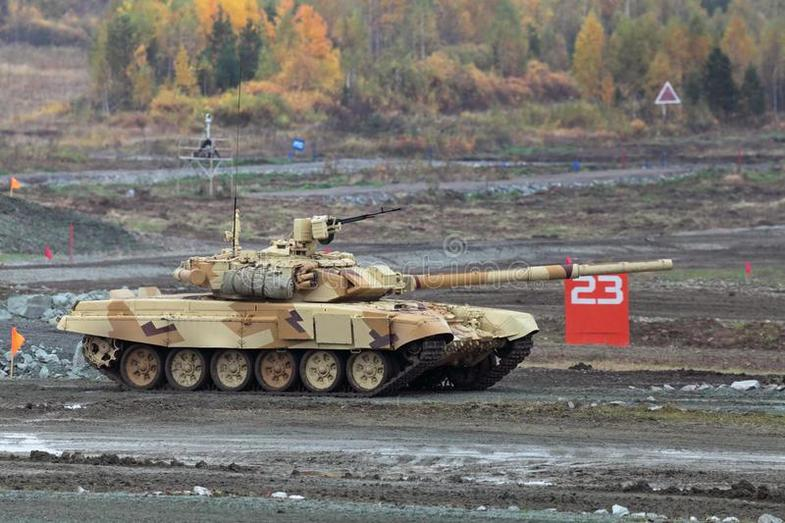t72: (59, 228, 566, 394)
